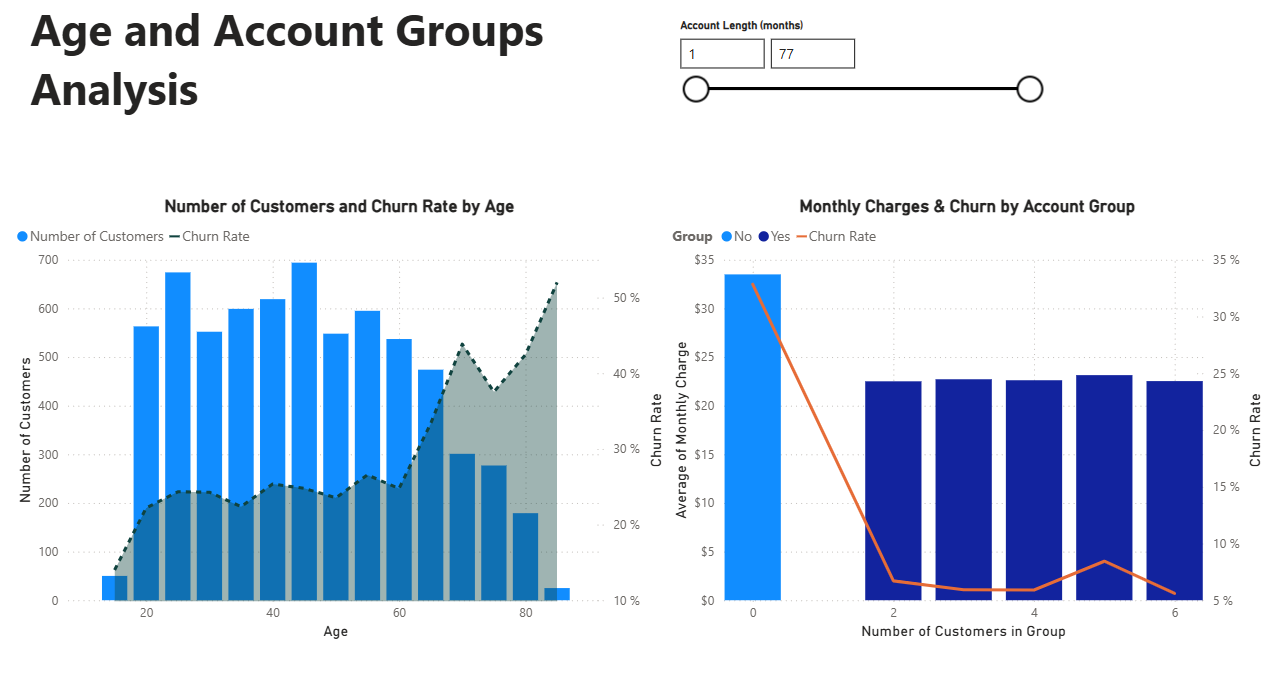

The dashboard page shown, as its layout file describes it:
{"tool":"powerbi","page":{"name":"Age Groups","canvas":[1280,720],"ordinal":1},"visuals":[{"type":"lineStackedColumnComboChart","fields":{"Category":["Databel - Data.Age (bins)"],"Y":["Databel - Data.Number of costumers"],"Y2":["Databel - Data.Churn Rate"]},"box":[31.6,196.1,638.9,436.5],"z":0},{"type":"lineStackedColumnComboChart","title":"Monthly Charges & Churn by Account Group","fields":{"Category":["Databel - Data.Number of Customers in Group"],"Y":["Avg(Databel - Data.Monthly Charge)"],"Series":["Databel - Data.Group"],"Y2":["Databel - Data.Churn Rate"]},"box":[670.6,196.1,584.1,436.5],"z":1000},{"type":"slicer","fields":{"Values":["Databel - Data.Account Length (in months)"]},"box":[670.6,19,374.3,108.6],"z":2000},{"type":"textbox","box":[46,0,609,150],"z":3000}]}

Visuals, with their boxes on the page's 1280x720 design canvas (x1, y1, x2, y2). These are canvas units, not pixel positions in the 1287x693 screenshot, which may show the page scaled, cropped or inside an application window:
lineStackedColumnComboChart - Databel - Data.Age (bins) x Databel - Data.Number of costumers: 32, 196, 670, 633
"Monthly Charges & Churn by Account Group" lineStackedColumnComboChart: 671, 196, 1255, 633
slicer - Databel - Data.Account Length (in months): 671, 19, 1045, 128
textbox: 46, 0, 655, 150
